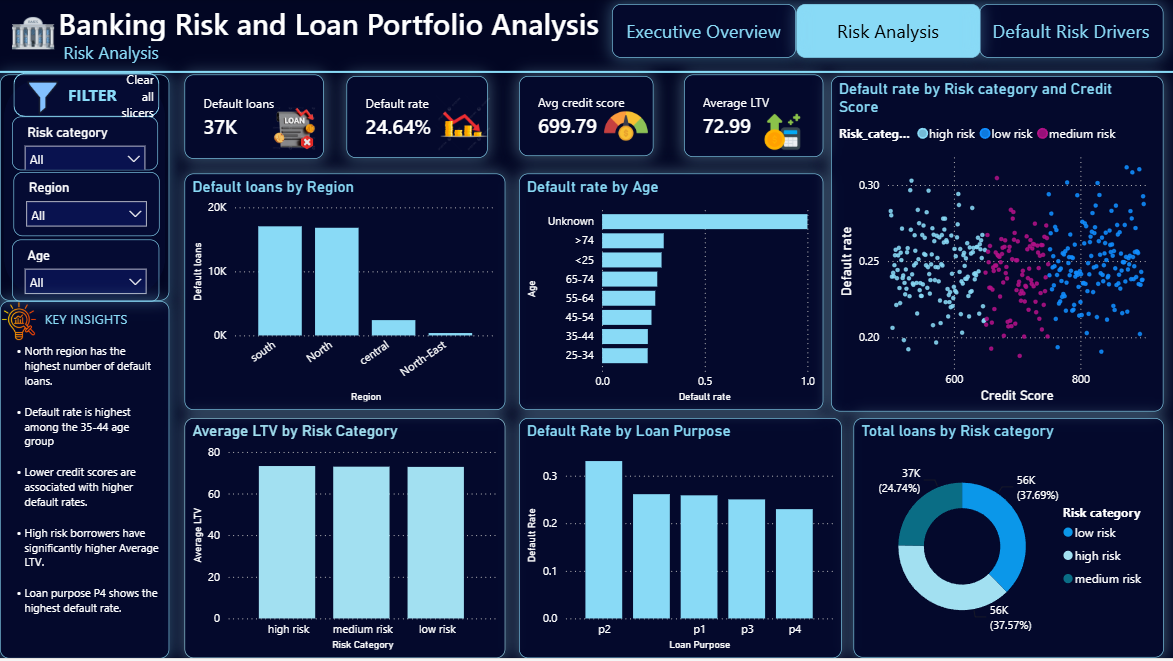

The page's visual inventory and layout, read from the dashboard file:
{"tool":"powerbi","page":{"name":"Risk Analysis","canvas":[1280,720],"ordinal":1},"visuals":[{"type":"shape","box":[0,82.7,184.5,246.7],"z":0,"group":"g1"},{"type":"cardVisual","fields":{"Data":["Calculations (2).Default loans"]},"box":[202,84,152,92],"z":0},{"type":"cardVisual","fields":{"Data":["Calculations (2).Average LTV"]},"box":[746,84,152,90],"z":1000},{"type":"slicer","fields":{"Values":["Loan_Default.Risk_category"]},"box":[12.7,129.3,159.1,58.9],"z":1000,"group":"g1"},{"type":"clusteredColumnChart","fields":{"Category":["region.Region"],"Y":["Calculations (2).Default loans"]},"box":[202,192,350,258],"z":2000},{"type":"slicer","fields":{"Values":["Age.age"]},"box":[12.7,263,160.7,67.9],"z":2000,"group":"g1"},{"type":"cardVisual","fields":{"Data":["Calculations (2).Avg credit score"]},"box":[566.3,84.3,146.3,87.5],"z":3000},{"type":"slicer","fields":{"Values":["Loan_Default.Region"]},"box":[14.3,189.7,159.1,70],"z":3000,"group":"g1"},{"type":"barChart","fields":{"Category":["Age.age"],"Y":["Calculations (2).Default rate"]},"box":[566,192,332,258],"z":4000},{"type":"cardVisual","fields":{"Data":["Calculations (2).Default rate"]},"box":[378.6,84.3,154.3,89.1],"z":5000},{"type":"scatterChart","title":"Default rate by Risk category and Credit Score","fields":{"Series":["Loan_Default.Risk_category"],"X":["Loan_Default.Credit_Score"],"Y":["Calculations (2).Default rate"]},"box":[907.1,84.3,362.9,365.7],"z":6000},{"type":"columnChart","fields":{"Category":["Loan_Default.loan_purpose"],"Y":["Calculations (2).Default rate"]},"box":[566,458,352,262],"z":7000},{"type":"donutChart","fields":{"Category":["Loan_Default.Risk_category"],"Y":["Calculations (2).Total loans"]},"box":[931.4,458.6,338.6,261.4],"z":8000},{"type":"columnChart","fields":{"Category":["Loan_Default.Risk_category"],"Y":["Calculations (2).Average LTV"]},"box":[202,458,350,262],"z":9000},{"type":"group","id":"g1","title":"Group 1","box":[0,82.7,184.5,248.1],"z":10000},{"type":"textbox","box":[0,330.8,184.5,389.7],"z":11000},{"type":"cardVisual","fields":{"Data":["Calculations (2).Title_2"]},"box":[58.9,0,602.8,52.5],"z":12000},{"type":"shape","box":[0,65.2,1280.4,30.2],"z":13000},{"type":"textbox","box":[12.7,41.4,216.3,39.8],"z":14000},{"type":"shape","box":[868.5,6.4,200.4,58.9],"z":15000},{"type":"shape","box":[668.1,6.4,200.4,58.9],"z":16000},{"type":"shape","box":[1068.9,6.4,200.4,58.9],"z":17000},{"type":"image","box":[0,330.8,41.4,44.5],"z":18000},{"type":"shape","box":[14.3,81.1,159.1,47.7],"z":19000},{"type":"image","box":[286.3,119.3,68.4,46.1],"z":20000},{"type":"image","box":[447,105,119.3,65.2],"z":21000},{"type":"image","box":[620.3,114.5,125.7,49.3],"z":22000},{"type":"image","box":[800.1,125.7,106.6,39.8],"z":23000},{"type":"image","box":[20.7,76.3,50.9,63.6],"z":24000},{"type":"image","box":[12.7,0,46.1,76.3],"z":25000},{"type":"actionButton","box":[120.9,74.8,50.9,62],"z":25001}]}

Visuals, with their boxes in screenshot pixels (x1, y1, x2, y2), scaled from the page's 1280x720 canvas onto the 1173x661 screenshot:
shape: Rect(0, 76, 169, 302)
cardVisual - Calculations (2).Default loans: Rect(185, 77, 324, 162)
cardVisual - Calculations (2).Average LTV: Rect(684, 77, 823, 160)
slicer - Loan_Default.Risk_category: Rect(12, 119, 157, 173)
clusteredColumnChart - region.Region x Calculations (2).Default loans: Rect(185, 176, 506, 413)
slicer - Age.age: Rect(12, 241, 159, 304)
cardVisual - Calculations (2).Avg credit score: Rect(519, 77, 653, 158)
slicer - Loan_Default.Region: Rect(13, 174, 159, 238)
barChart - Age.age x Calculations (2).Default rate: Rect(519, 176, 823, 413)
cardVisual - Calculations (2).Default rate: Rect(347, 77, 488, 159)
"Default rate by Risk category and Credit Score" scatterChart: Rect(831, 77, 1164, 413)
columnChart - Loan_Default.loan_purpose x Calculations (2).Default rate: Rect(519, 420, 841, 660)
donutChart - Loan_Default.Risk_category x Calculations (2).Total loans: Rect(854, 421, 1164, 660)
columnChart - Loan_Default.Risk_category x Calculations (2).Average LTV: Rect(185, 420, 506, 660)
"Group 1" group: Rect(0, 76, 169, 304)
textbox: Rect(0, 304, 169, 660)
cardVisual - Calculations (2).Title_2: Rect(54, 0, 606, 48)
shape: Rect(0, 60, 1172, 88)
textbox: Rect(12, 38, 210, 75)
shape: Rect(796, 6, 980, 60)
shape: Rect(612, 6, 796, 60)
shape: Rect(980, 6, 1163, 60)
image: Rect(0, 304, 38, 345)
shape: Rect(13, 74, 159, 118)
image: Rect(262, 110, 325, 152)
image: Rect(410, 96, 519, 156)
image: Rect(568, 105, 684, 150)
image: Rect(733, 115, 831, 152)
image: Rect(19, 70, 66, 128)
image: Rect(12, 0, 54, 70)
actionButton: Rect(111, 69, 157, 126)
